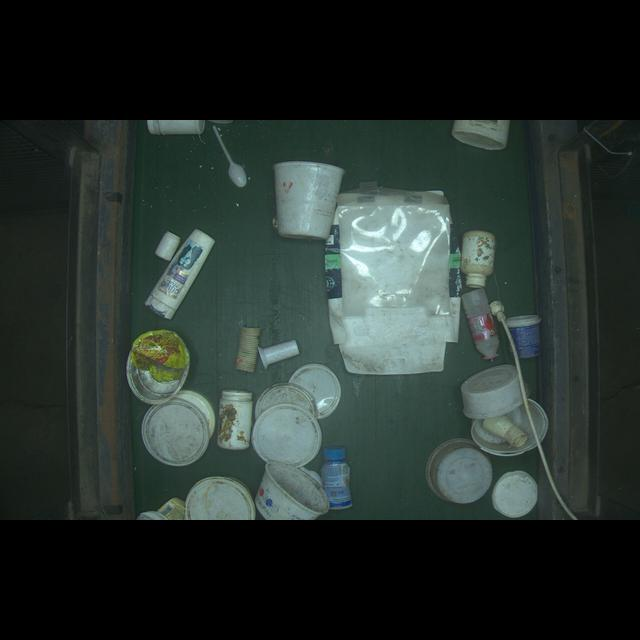mix PP: (141, 211, 215, 323), (264, 153, 345, 242), (116, 326, 204, 405), (322, 445, 363, 517), (504, 307, 542, 365)
